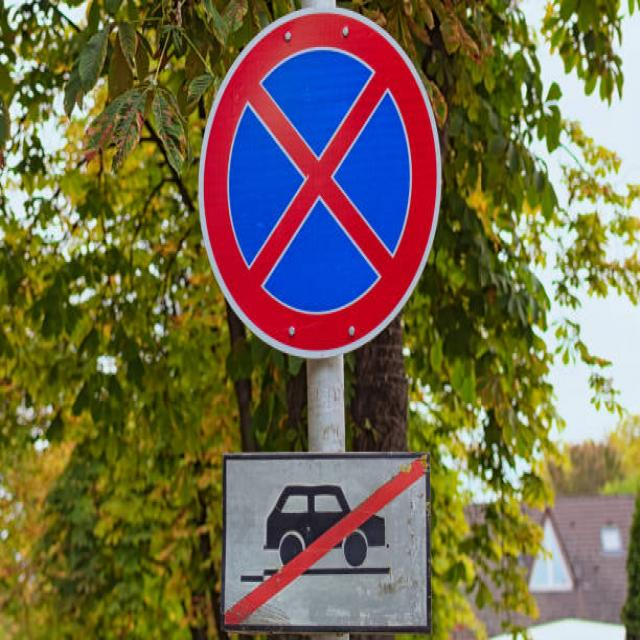no_parking: (193, 5, 445, 364)
